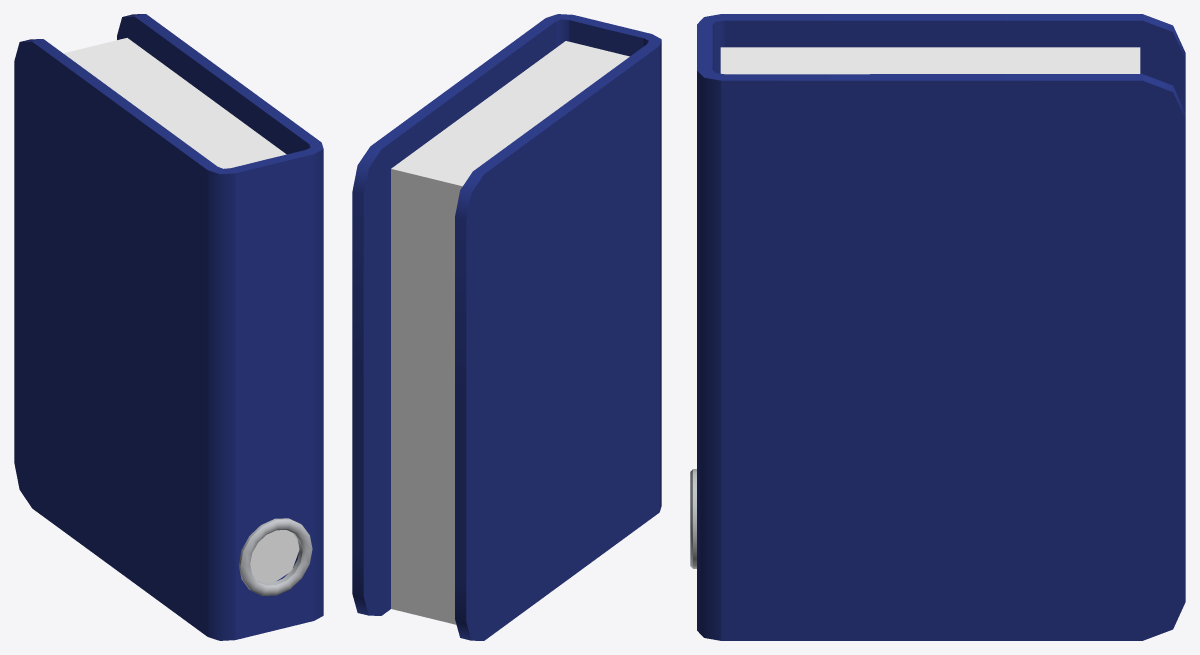
Rendered from Folder_11.fbx.
The picture shows the model from 3 angles, left to right: view 1: azimuth 30°, elevation 25°; view 2: azimuth 150°, elevation 25°; view 3: azimuth 270°, elevation 25°; orthographic projection. The views are drawn at different scales.
Visible parts, largest first — view 1: Folder_11; view 2: Folder_11; view 3: Folder_11.
Part boxes in pixels (bbox=[...]): Folder_11: bbox=[14, 14, 323, 640]; Folder_11: bbox=[352, 14, 661, 640]; Folder_11: bbox=[690, 14, 1185, 640].
Size of the model in its own units: 0.1004 by 0.3932 by 0.3152.
